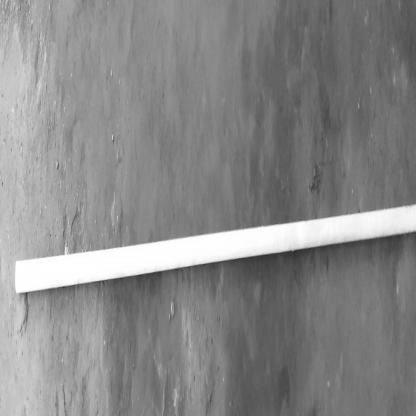PVC: (15, 203, 416, 295)
